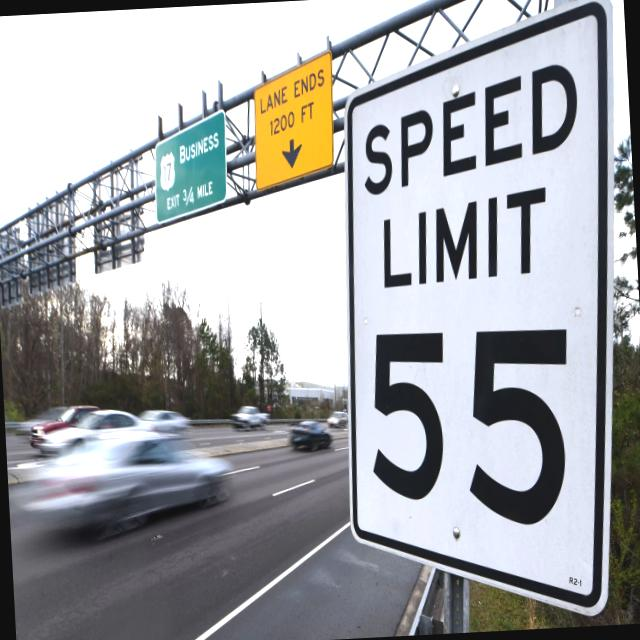Speed Limit Signs: (321, 0, 640, 629)
